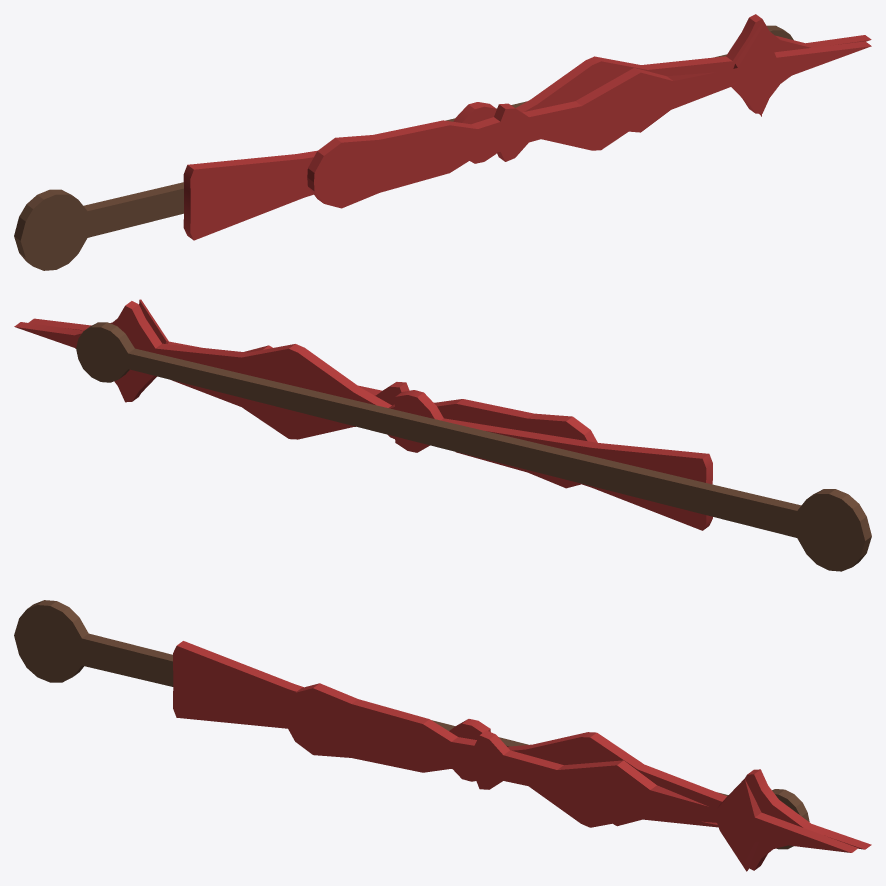
The model's file is clock_hands.glb.
3 views of the same model, one above another, from view 1: azimuth 30°, elevation 25°; view 2: azimuth 150°, elevation 25°; view 3: azimuth 330°, elevation 25° (orthographic).
Visible parts, largest first — view 1: minutes, hours, seconds; view 2: seconds, hours, minutes; view 3: minutes, hours, seconds.
Part boxes in pixels (bbox=[...]): minutes: bbox=[307, 23, 871, 208]; hours: bbox=[183, 14, 871, 240]; seconds: bbox=[14, 25, 793, 270]; seconds: bbox=[76, 322, 871, 571]; hours: bbox=[14, 301, 712, 530]; minutes: bbox=[28, 299, 597, 488]; minutes: bbox=[285, 683, 858, 871]; hours: bbox=[173, 641, 871, 870]; seconds: bbox=[14, 600, 809, 849].
Bounding box in the file's own units: 0.7325 × 0.0787 × 0.03.
